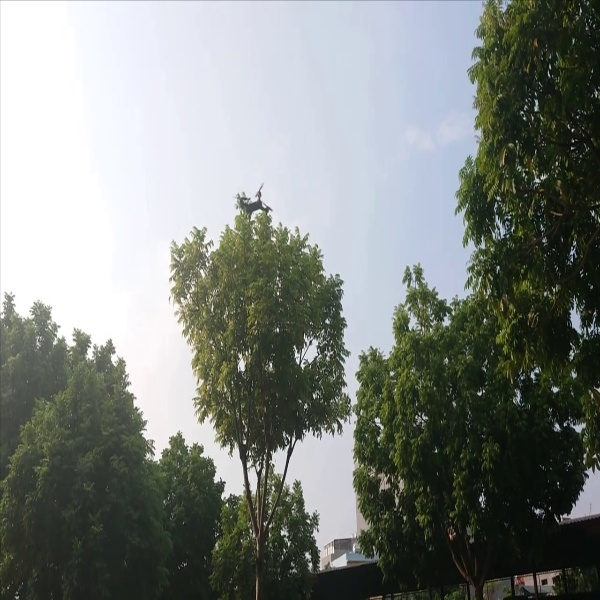drone: (232, 184, 274, 229)
